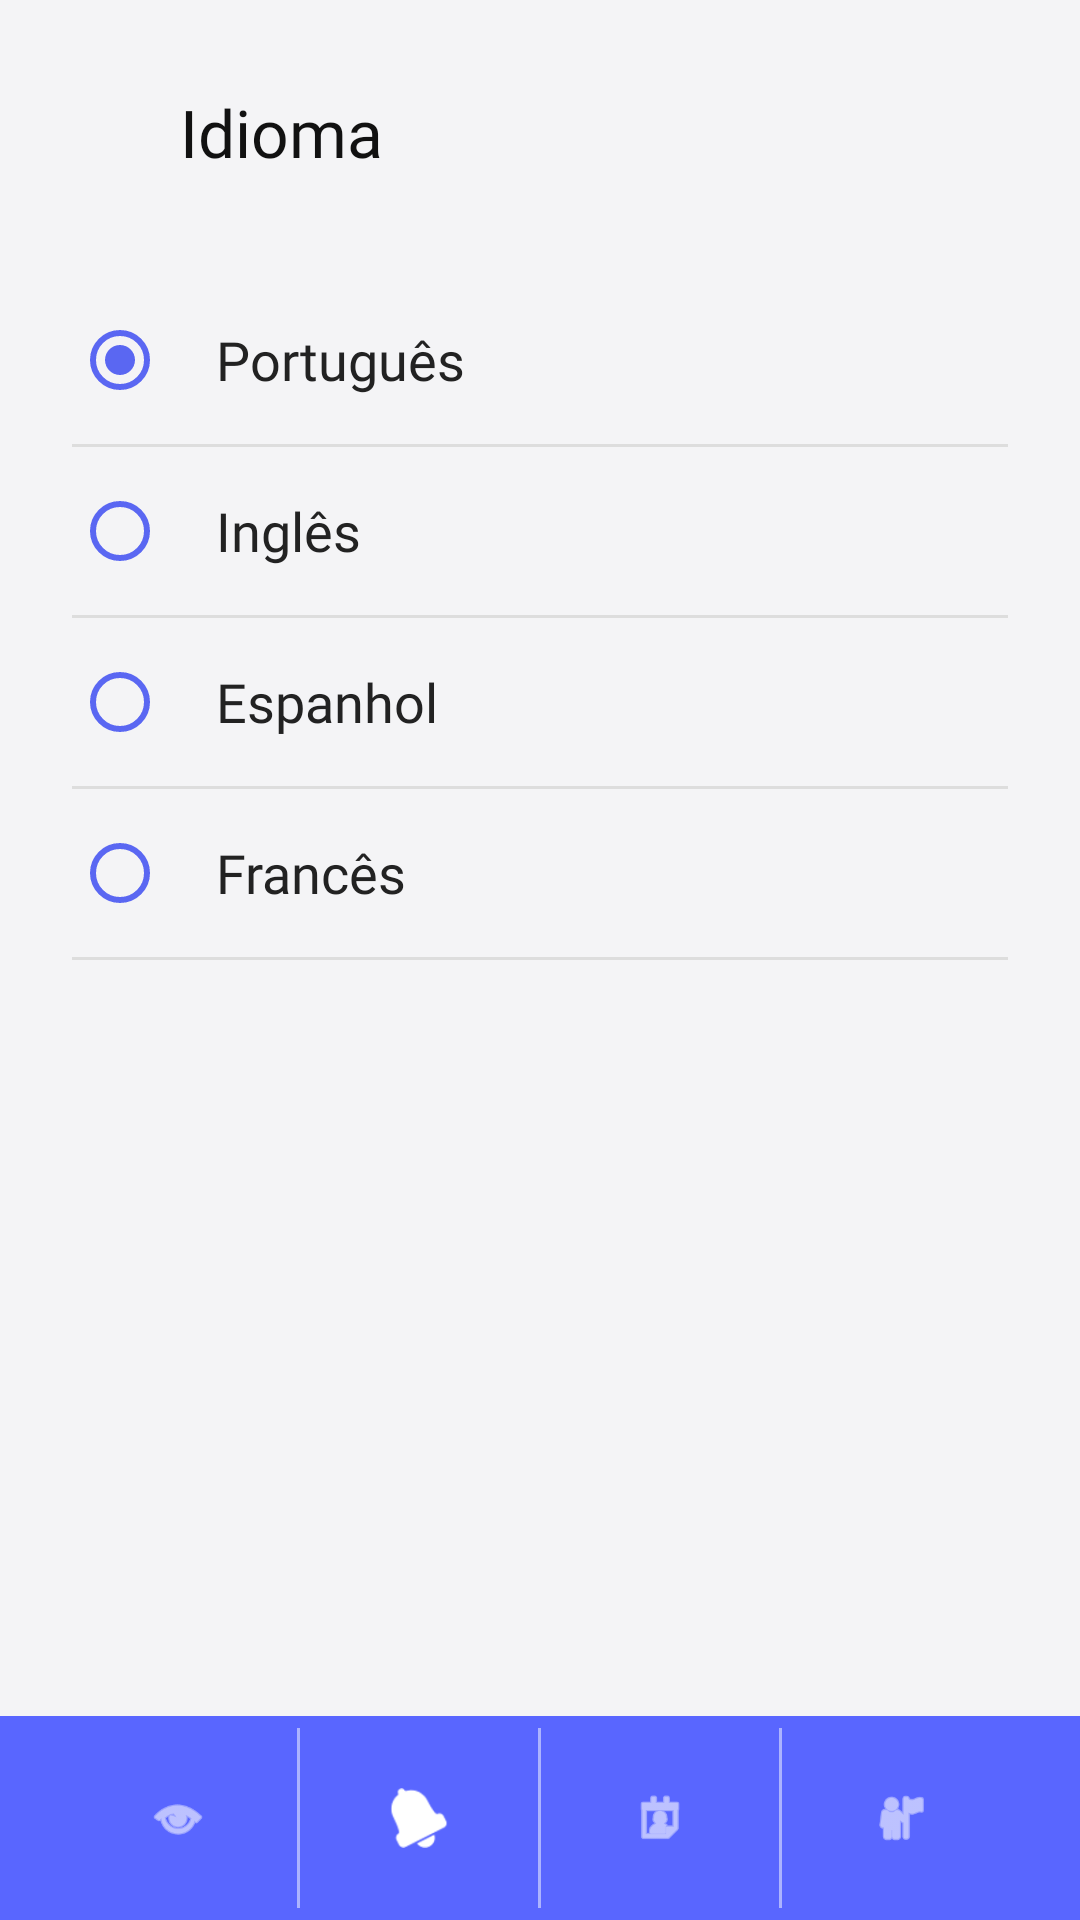

Icons on this 1080 × 1920 Android screen, each with its box as bbox=[x1, y1, x2, y2]:
Calendário: bbox=[641, 1795, 679, 1839]
Notificações: bbox=[391, 1788, 447, 1848]
Perfil: bbox=[879, 1796, 924, 1840]
